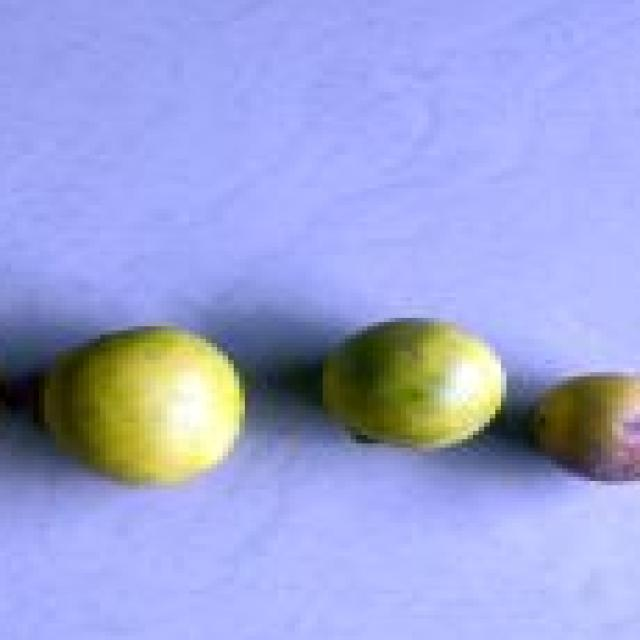Bad_Lime-0-1-day: (501, 372, 640, 485)
Good_Lime-10-21-days: (39, 326, 250, 489), (317, 318, 506, 452)
